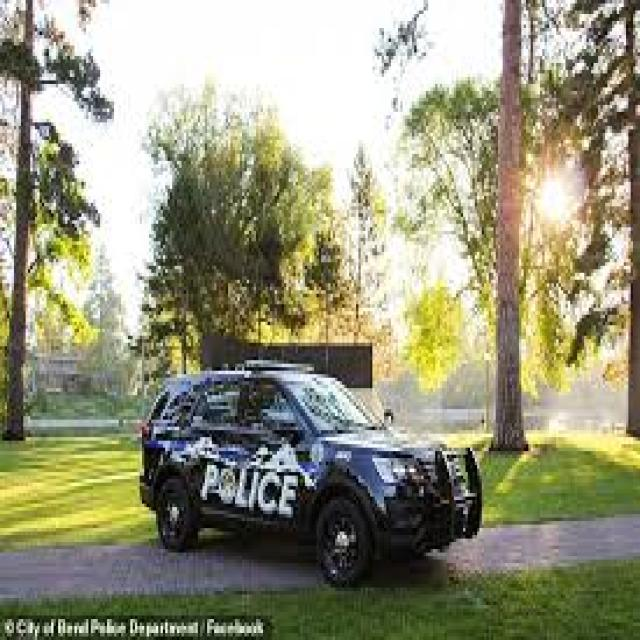cop: (139, 356, 487, 591)
